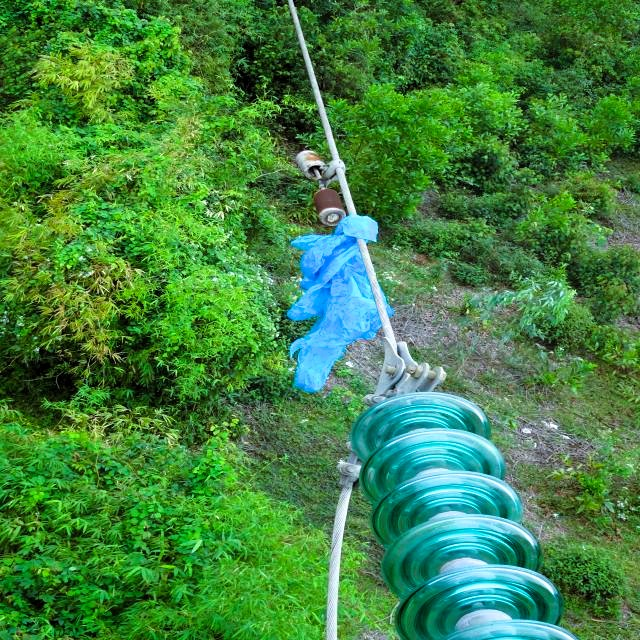wire foreign body: (281, 212, 394, 401)
